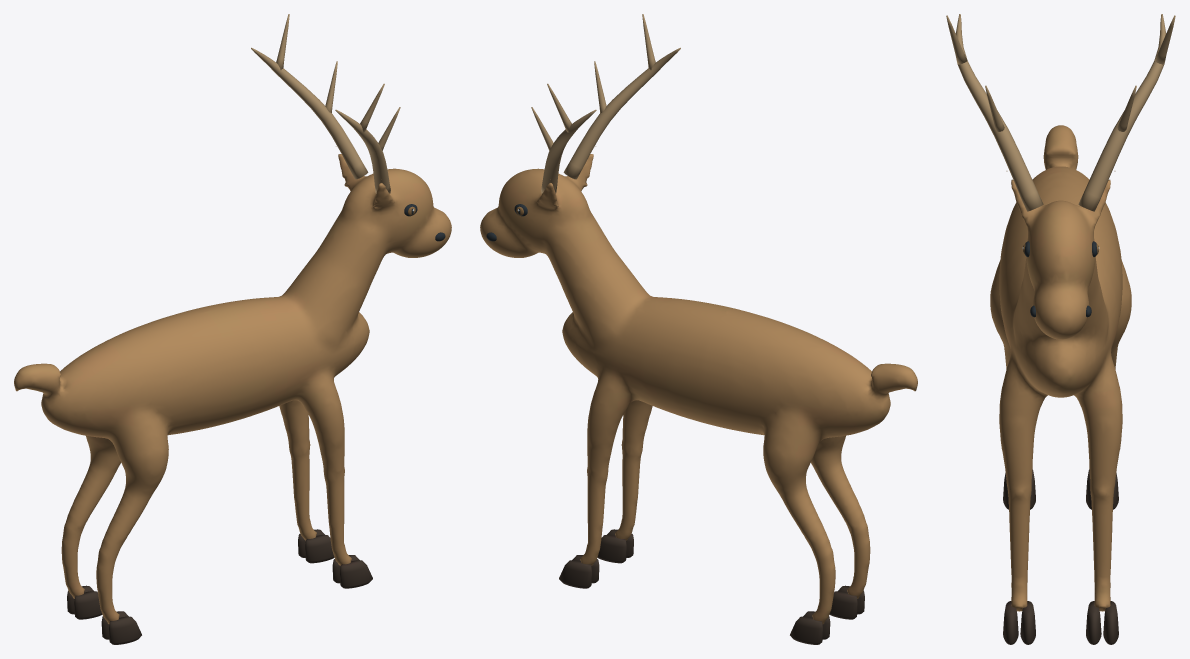
Rendered from nature-deer-standing.glb.
The picture shows the model from 3 angles, left to right: view 1: azimuth 30°, elevation 25°; view 2: azimuth 150°, elevation 25°; view 3: azimuth 270°, elevation 25°; orthographic projection. The views are drawn at different scales.
Visible parts, largest first — view 1: Continuous anatomical skin, Deer antler beam.001, Deer antler beam, Cloven tapered hoof, Cloven tapered hoof.002, Cloven tapered hoof.004, Cloven tapered hoof.006; view 2: Continuous anatomical skin, Deer antler beam, Deer antler beam.001, Cloven tapered hoof.005, Cloven tapered hoof.007, Cloven tapered hoof.001, Cloven tapered hoof.003; view 3: Continuous anatomical skin, Deer antler beam, Deer antler beam.001, Cloven tapered hoof, Cloven tapered hoof.005, Cloven tapered hoof.001, Cloven tapered hoof.004, Antler tine.001, Antler tine.003.
Boxes of the visible parts, x1,y1,x2,y2 form: Continuous anatomical skin: (14,146,451,624); Deer antler beam.001: (251,47,368,179); Deer antler beam: (335,109,390,193); Cloven tapered hoof: (340,560,372,588); Cloven tapered hoof.002: (109,616,141,644); Cloven tapered hoof.004: (305,534,334,563); Cloven tapered hoof.006: (74,591,102,619); Continuous anatomical skin: (480,146,917,624); Deer antler beam: (563,47,680,179); Deer antler beam.001: (541,109,596,193); Cloven tapered hoof.005: (559,560,591,588); Cloven tapered hoof.007: (790,616,822,644); Cloven tapered hoof.001: (597,534,626,563); Cloven tapered hoof.003: (829,591,857,619); Continuous anatomical skin: (990,125,1131,611); Deer antler beam: (955,14,1043,211); Deer antler beam.001: (1078,14,1166,211); Cloven tapered hoof: (1003,601,1018,644); Cloven tapered hoof.005: (1103,601,1118,644); Cloven tapered hoof.001: (1020,601,1035,644); Cloven tapered hoof.004: (1086,601,1101,644); Antler tine.001: (946,15,967,64); Antler tine.003: (1154,15,1175,64).
Bounding box in the file's own units: 1.43 × 1.64 × 0.548.
6 materials, 6 textured.
